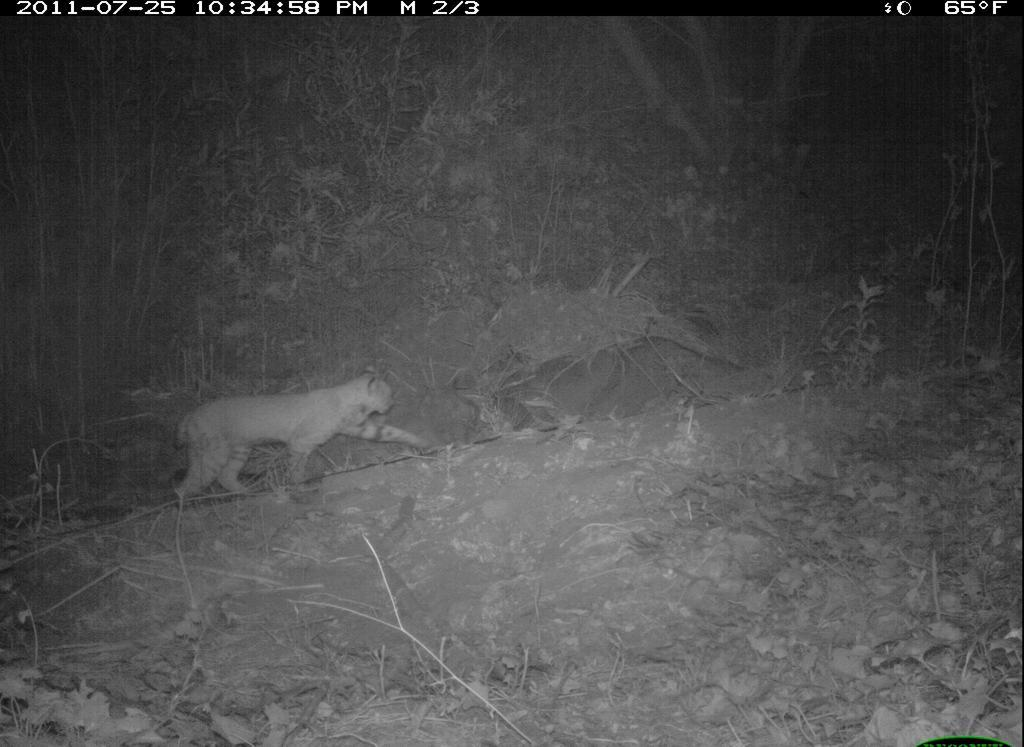bobcat: (148, 359, 451, 512)
